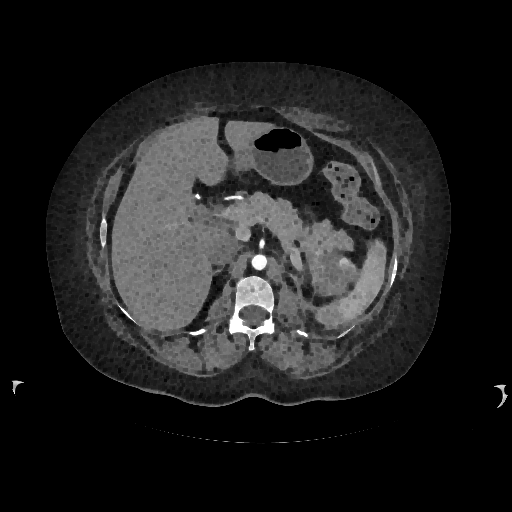Lesion: (336, 255, 354, 271)
